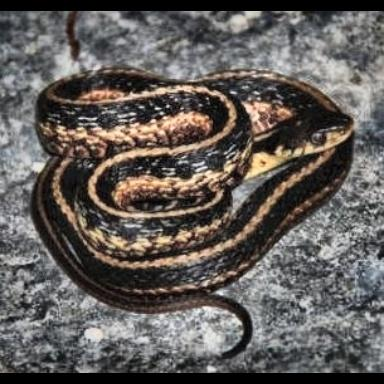snake: (31, 68, 355, 315)
